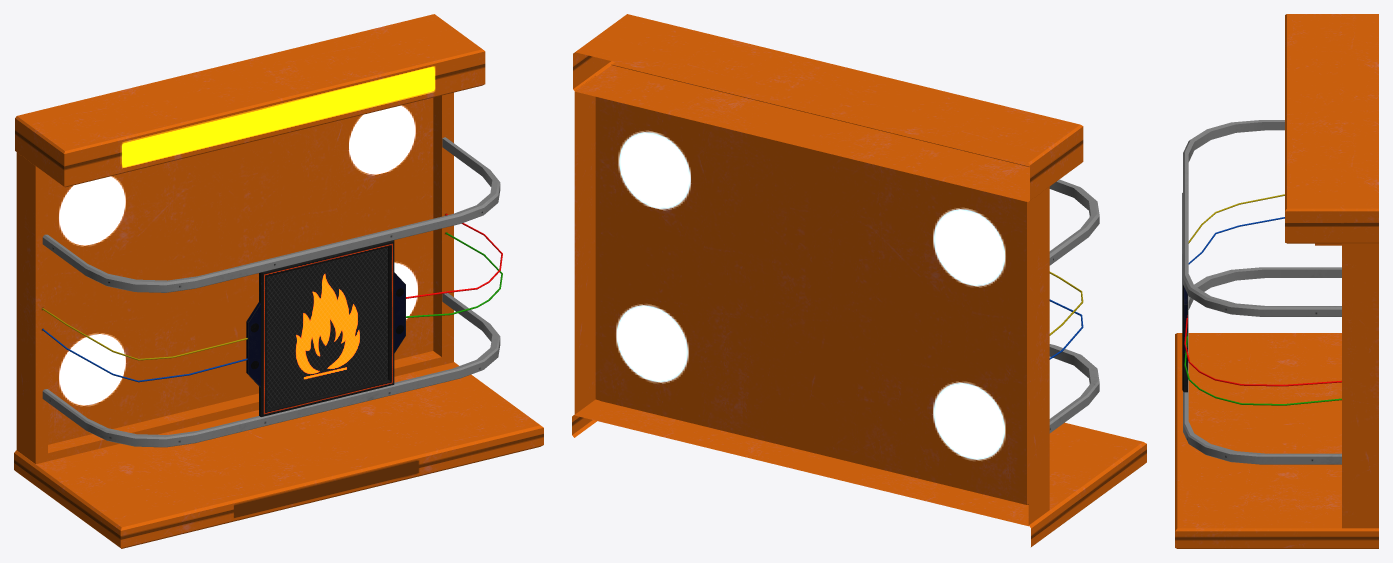
File: Soporte_tanque_text (1).fbx
3 views of the same model, side by side, from view 1: azimuth 30°, elevation 25°; view 2: azimuth 150°, elevation 25°; view 3: azimuth 270°, elevation 25° (orthographic). The views are drawn at different scales.
Visible parts, largest first — view 1: espaldar, base, techo, pantalla, barras, cables, polySurface1, polySurface2; view 2: espaldar, techo, base, barras; view 3: base, techo, espaldar, barras, cables, pantalla.
Part boxes in pixels (x1,y1,x2,y2): espaldar: (16,92,453,463); base: (14,362,543,548); techo: (15,14,485,187); pantalla: (259,240,394,416); barras: (42,137,500,447); cables: (42,214,502,382); polySurface1: (246,302,260,387); polySurface2: (394,272,405,353); espaldar: (574,64,1049,526); techo: (573,14,1083,201); base: (572,399,1146,546); barras: (1049,179,1099,433); base: (1175,333,1378,548); techo: (1285,14,1378,243); espaldar: (1315,243,1378,528); barras: (1183,120,1341,464); cables: (1184,194,1341,405); pantalla: (1182,193,1187,392).
Bounding box in the file's own units: 12.66 × 10.18 × 5.53.
6 materials, 6 textured.
